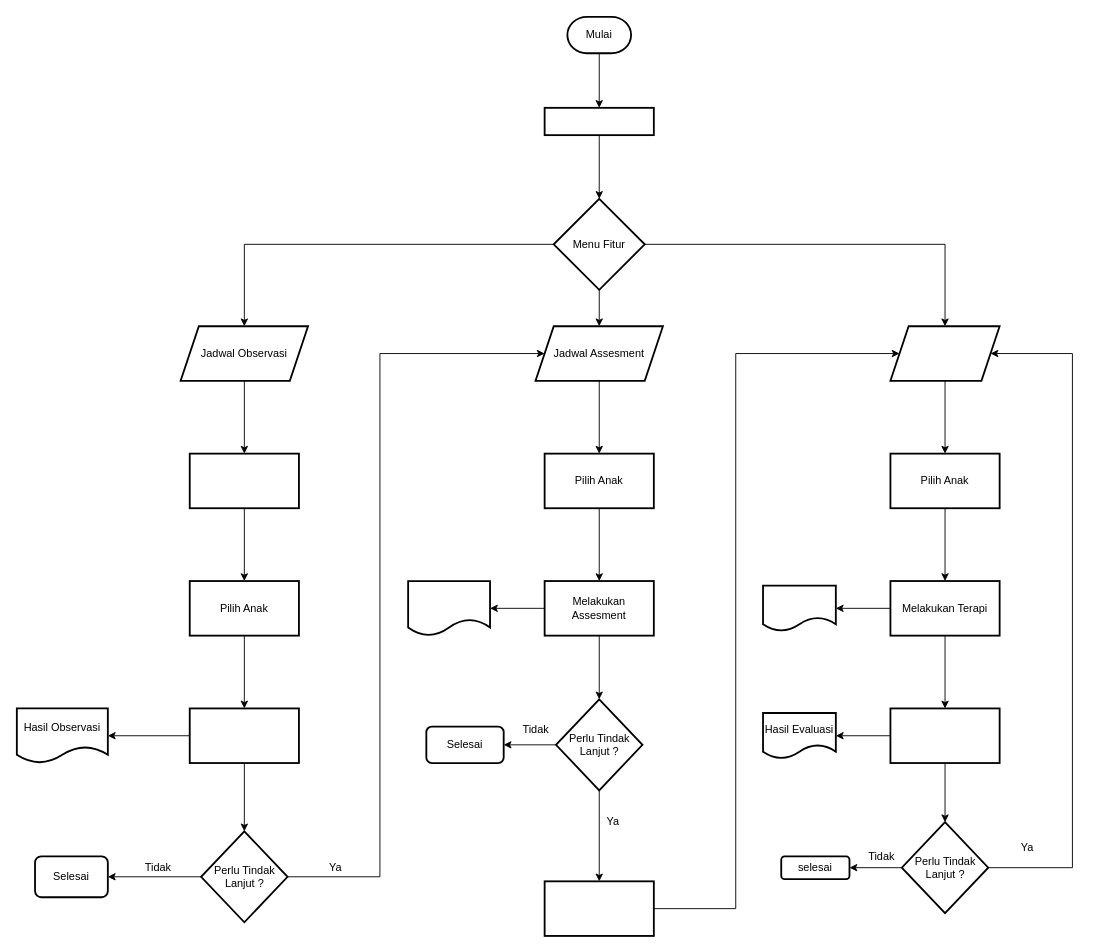
Some shapes in this 1096 by 952 pixel diagram are drawn without their labels. The centre of each missing label's shape, as x and y in pixels:
Hasil Assesment: (x=448, y=608)
Jadwal Terapi: (x=944, y=353)
Laporan Sesi Terapi: (x=799, y=608)
Login ke Website: (x=598, y=121)
Melakukan Observasi: (x=243, y=735)
Pilih Kategori Usia: (x=243, y=480)
Sesi Evaluasi: (x=944, y=735)
Tentukan Jenis Terapi: (x=598, y=908)
